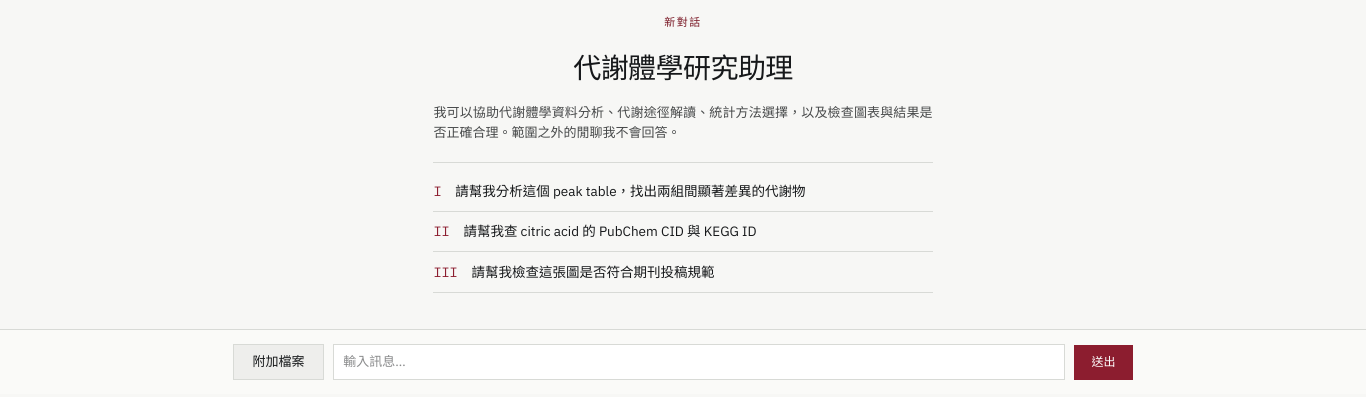
Test: Content (/chat welcome screen) › clicking a suggestion fills the composer without submitting
What coordinates should you click on to do the following:
click the text "請幫我分析這個 peak table，找出兩組間顯著差異的代謝物"
I would click on:
 (630, 191)
Its box is x1=455 y1=181 x2=806 y2=202.
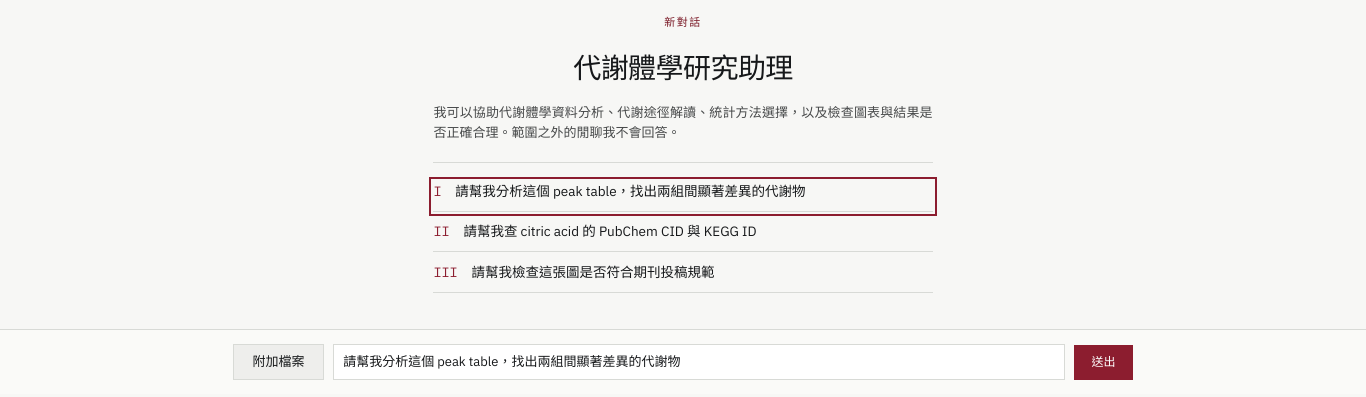
Check: the field with placeholder "輸入訊息…" holds "請幫我分析這個 peak table，找出兩組間顯著差異的代謝物", box x1=333 y1=344 x2=1065 y2=380
